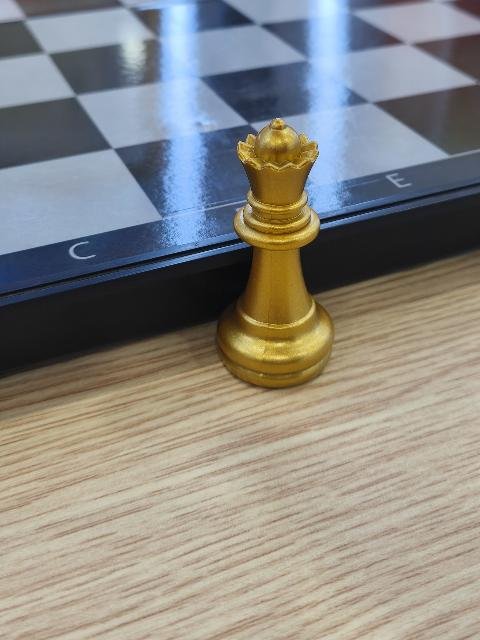black_queen: (216, 117, 336, 387)
